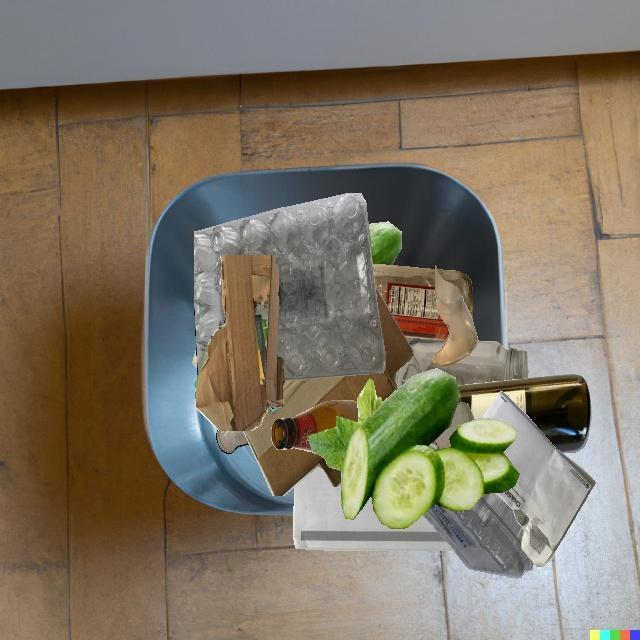biowaste: (308, 368, 520, 529), (368, 221, 402, 265)
cardboard: (243, 286, 413, 496), (195, 255, 286, 431)
glass: (457, 374, 591, 453), (392, 338, 528, 389), (373, 264, 449, 340), (271, 400, 359, 454), (432, 265, 478, 366), (434, 402, 474, 449), (216, 430, 249, 454)
paper: (482, 391, 596, 567), (293, 466, 454, 551), (192, 347, 197, 369), (428, 441, 439, 450)
plastic: (194, 193, 386, 381), (422, 493, 533, 578)
